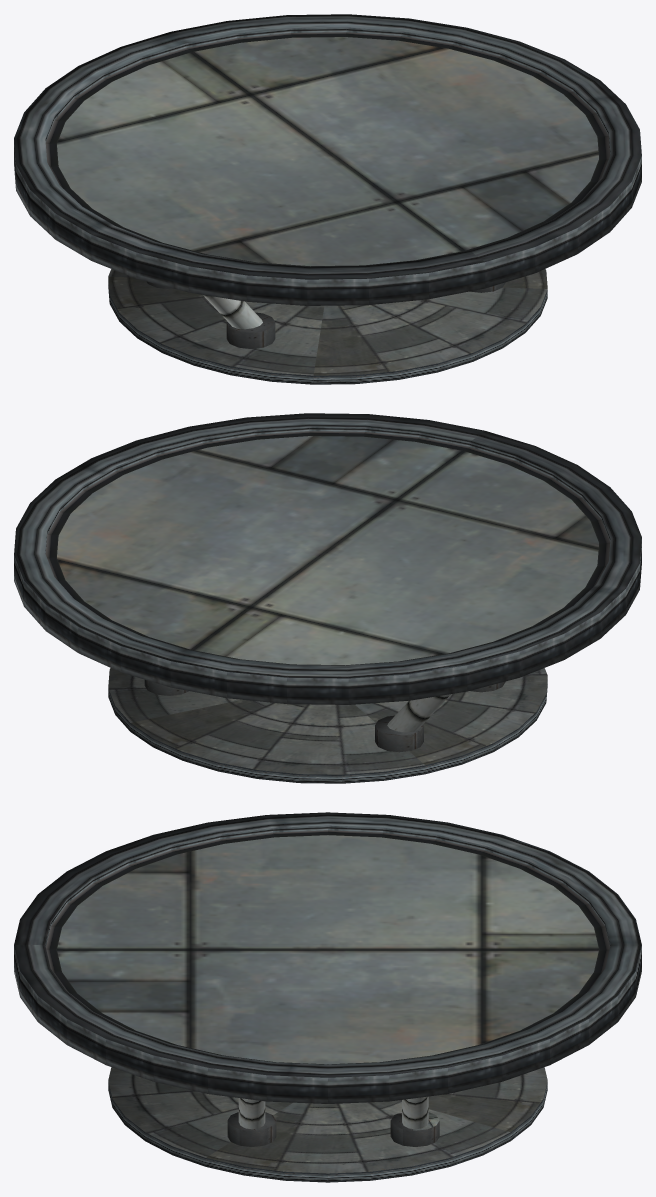
Rendered from mesa2.fbx.
3 views of the same model, one above another, from view 1: azimuth 30°, elevation 25°; view 2: azimuth 150°, elevation 25°; view 3: azimuth 270°, elevation 25° (orthographic).
Parts seen in each view (by area): view 1: Cylinder; view 2: Cylinder; view 3: Cylinder.
Part boxes in pixels (bbox=[...]): Cylinder: bbox=[14, 14, 641, 384]; Cylinder: bbox=[14, 413, 641, 783]; Cylinder: bbox=[14, 812, 641, 1182].
Size of the model in its own units: 3.6 by 0.9146 by 3.6.
